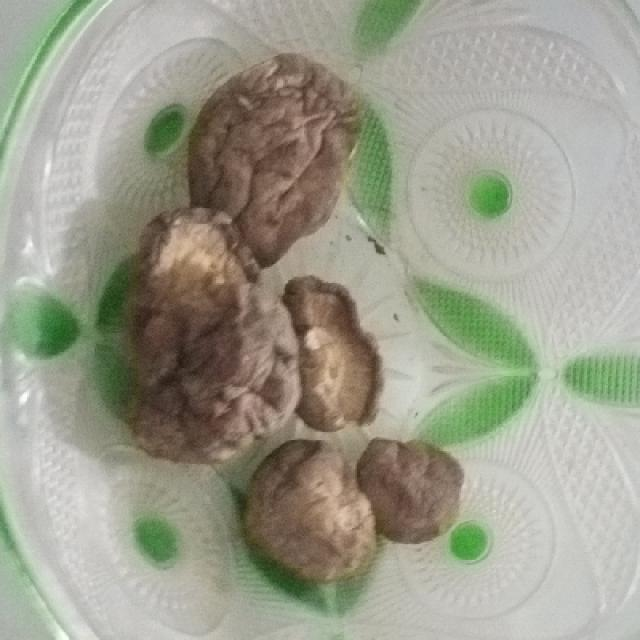Lentinus edodes: (114, 210, 300, 463), (187, 54, 364, 263), (246, 442, 373, 579), (282, 273, 383, 431), (354, 434, 463, 543)
